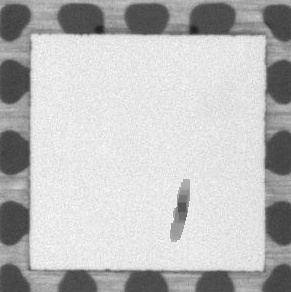DIE_INK: (164, 176, 192, 246)
